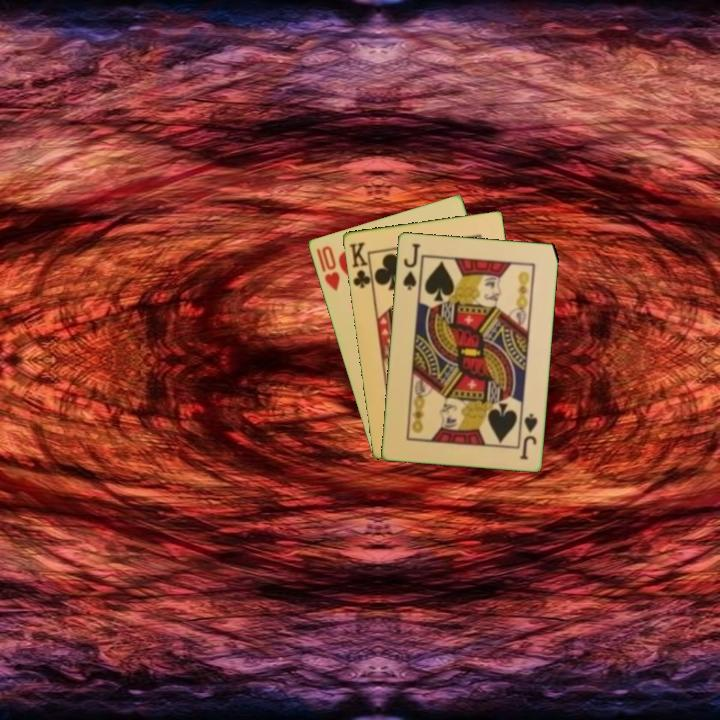10h: (312, 242, 343, 294)
Js: (399, 239, 423, 292), (516, 410, 540, 462)
Kc: (345, 238, 375, 291)
